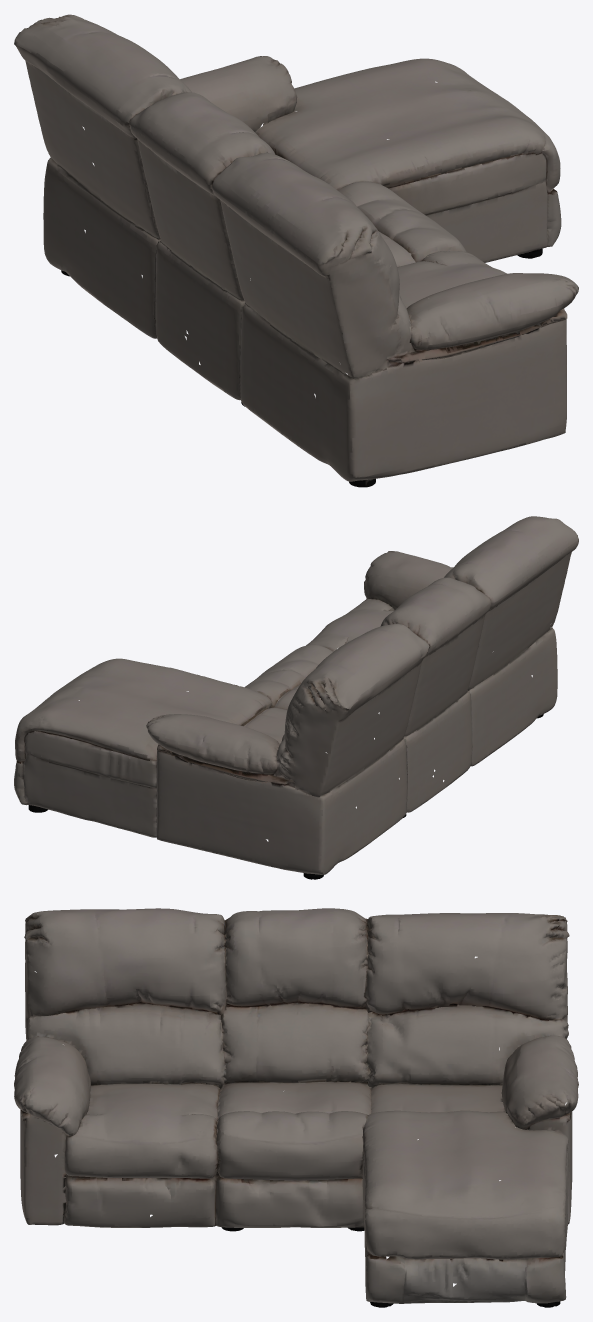
File: zarielbrown.glb
3 renders of one model, top to bottom at view 1: azimuth 30°, elevation 25°; view 2: azimuth 150°, elevation 25°; view 3: azimuth 270°, elevation 25°, orthographic. The views are drawn at different scales.
Parts seen in each view (by area): view 1: tripo_node_f75a5aa8-4c7c-4782-bdc7-e82c237df582; view 2: tripo_node_f75a5aa8-4c7c-4782-bdc7-e82c237df582; view 3: tripo_node_f75a5aa8-4c7c-4782-bdc7-e82c237df582.
Boxes of the visible parts, left/top/right/bottom form: tripo_node_f75a5aa8-4c7c-4782-bdc7-e82c237df582: left=14, top=14, right=578, bottom=487; tripo_node_f75a5aa8-4c7c-4782-bdc7-e82c237df582: left=14, top=516, right=578, bottom=879; tripo_node_f75a5aa8-4c7c-4782-bdc7-e82c237df582: left=14, top=908, right=578, bottom=1307.
Size of the model in its own units: 0.8004 by 0.453 by 1.
Materials: 1 (1 with a texture image).
